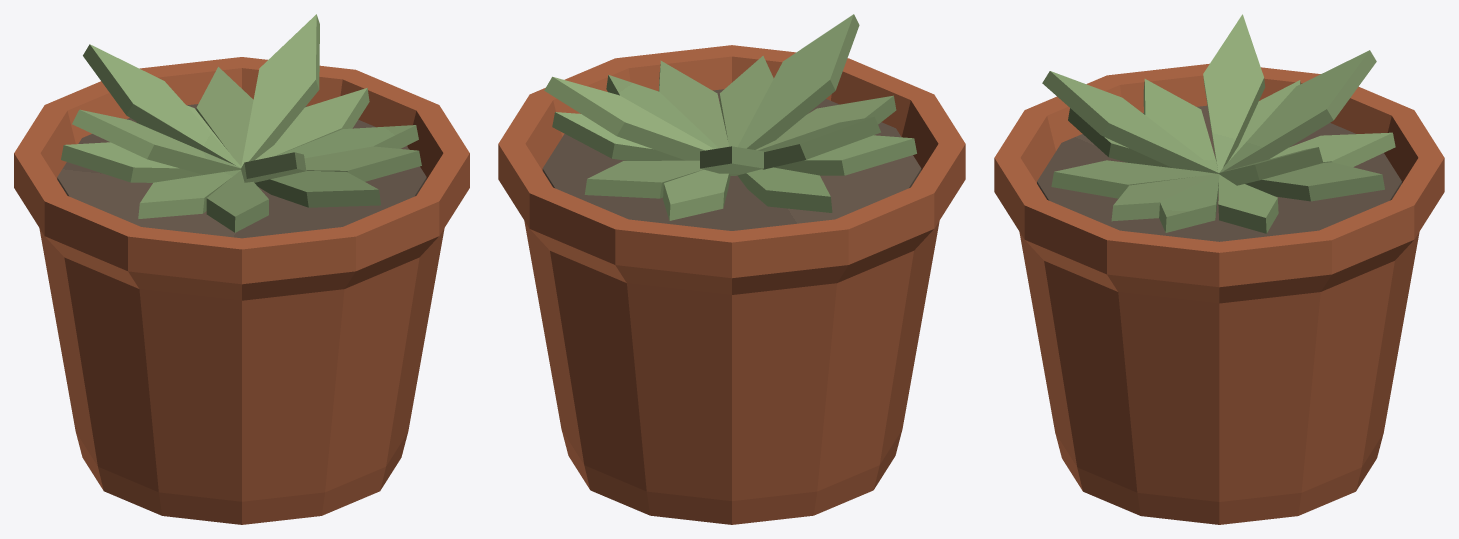
The model's file is new-agavoides.glb.
The picture shows the model from 3 angles, left to right: view 1: azimuth 30°, elevation 25°; view 2: azimuth 150°, elevation 25°; view 3: azimuth 270°, elevation 25°; orthographic projection. The views are drawn at different scales.
Parts seen in each view (by area): view 1: new-agavoides/review-terra-vessel, new-agavoides/review-rooted-soil, new-agavoides/leaf-012, new-agavoides/leaf-010, new-agavoides/leaf-013, new-agavoides/leaf-006, new-agavoides/leaf-007, new-agavoides/leaf-005, new-agavoides/leaf-004, new-agavoides/leaf-008, new-agavoides/leaf-001, new-agavoides/leaf-003 (+2 smaller); view 2: new-agavoides/review-terra-vessel, new-agavoides/review-rooted-soil, new-agavoides/leaf-011, new-agavoides/leaf-012, new-agavoides/leaf-007, new-agavoides/leaf-008, new-agavoides/leaf-005, new-agavoides/leaf-001, new-agavoides/leaf-013, new-agavoides/leaf-006, new-agavoides/leaf-002, new-agavoides/leaf-004 (+3 smaller); view 3: new-agavoides/review-terra-vessel, new-agavoides/review-rooted-soil, new-agavoides/leaf-010, new-agavoides/leaf-011, new-agavoides/leaf-013, new-agavoides/leaf-007, new-agavoides/leaf-006, new-agavoides/leaf-008, new-agavoides/leaf-004, new-agavoides/leaf-002, new-agavoides/leaf-009, new-agavoides/leaf-001 (+3 smaller).
Part boxes in pixels (<box>): new-agavoides/review-terra-vessel: <box>14,57,469,524</box>; new-agavoides/review-rooted-soil: <box>57,104,426,238</box>; new-agavoides/leaf-012: <box>241,14,319,166</box>; new-agavoides/leaf-010: <box>83,44,241,167</box>; new-agavoides/leaf-013: <box>72,109,240,174</box>; new-agavoides/leaf-006: <box>255,170,380,207</box>; new-agavoides/leaf-007: <box>196,67,253,165</box>; new-agavoides/leaf-005: <box>61,142,202,182</box>; new-agavoides/leaf-004: <box>255,88,369,160</box>; new-agavoides/leaf-008: <box>138,170,240,218</box>; new-agavoides/leaf-001: <box>304,146,421,181</box>; new-agavoides/leaf-003: <box>206,170,268,232</box>; new-agavoides/review-terra-vessel: <box>498,45,965,524</box>; new-agavoides/review-rooted-soil: <box>542,89,921,230</box>; new-agavoides/leaf-011: <box>738,14,859,149</box>; new-agavoides/leaf-012: <box>544,76,713,160</box>; new-agavoides/leaf-007: <box>584,160,703,198</box>; new-agavoides/leaf-008: <box>774,135,916,175</box>; new-agavoides/leaf-005: <box>737,167,832,212</box>; new-agavoides/leaf-001: <box>658,60,728,148</box>; new-agavoides/leaf-013: <box>758,116,880,169</box>; new-agavoides/leaf-006: <box>719,56,773,147</box>; new-agavoides/leaf-002: <box>663,169,730,220</box>; new-agavoides/leaf-004: <box>552,112,685,160</box>; new-agavoides/review-terra-vessel: <box>994,63,1444,524</box>; new-agavoides/review-rooted-soil: <box>1037,105,1401,241</box>; new-agavoides/leaf-010: <box>1220,50,1376,172</box>; new-agavoides/leaf-011: <box>1042,71,1219,173</box>; new-agavoides/leaf-013: <box>1203,14,1265,172</box>; new-agavoides/leaf-007: <box>1245,162,1384,201</box>; new-agavoides/leaf-006: <box>1051,160,1216,198</box>; new-agavoides/leaf-008: <box>1143,79,1217,170</box>; new-agavoides/leaf-004: <box>1218,174,1278,233</box>; new-agavoides/leaf-002: <box>1270,132,1395,166</box>; new-agavoides/leaf-009: <box>1159,174,1219,232</box>; new-agavoides/leaf-001: <box>1111,174,1218,221</box>.
Bounding box in the file's own units: 0.19 × 0.1731 × 0.19.
Materials: 3 (3 with a texture image).
